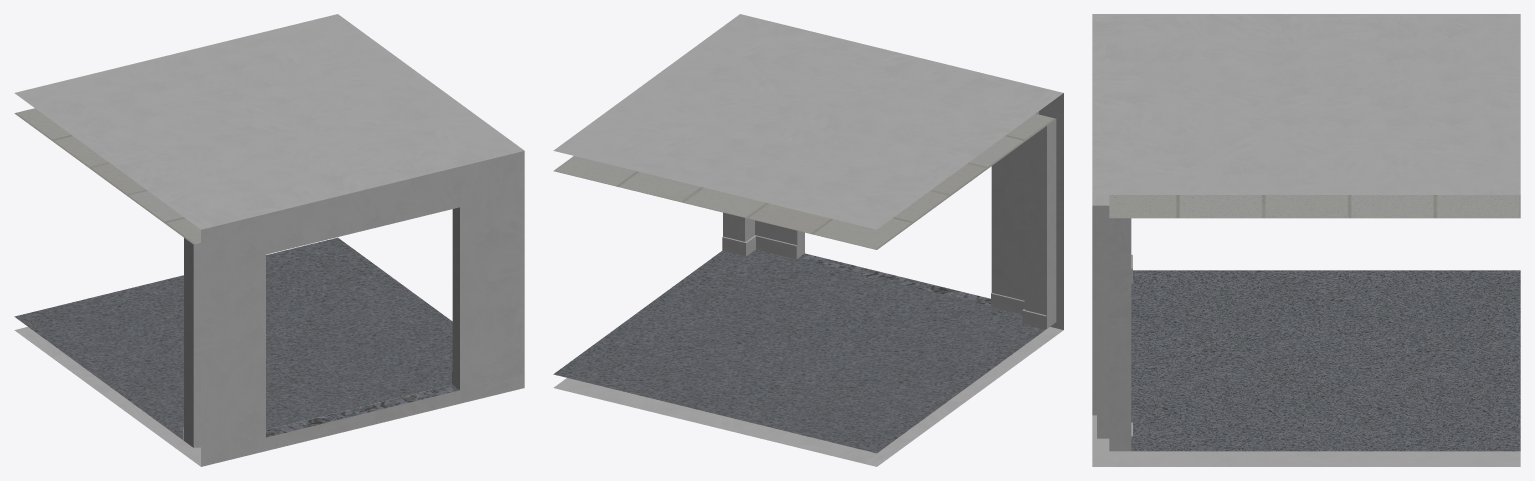
The model's file is SM_HallwayMesh_01_Mid_Entrance.fbx.
3 renders of one model, left to right at view 1: azimuth 30°, elevation 25°; view 2: azimuth 150°, elevation 25°; view 3: azimuth 270°, elevation 25°, orthographic. The views are drawn at different scales.
Parts seen in each view (by area): view 1: SM_HallwayMesh_01_Mid_Entrance_LOD0; view 2: SM_HallwayMesh_01_Mid_Entrance_LOD0; view 3: SM_HallwayMesh_01_Mid_Entrance_LOD0.
Part boxes in pixels (x1,y1,x2,y2): SM_HallwayMesh_01_Mid_Entrance_LOD0: (14, 14, 524, 466); SM_HallwayMesh_01_Mid_Entrance_LOD0: (553, 14, 1063, 466); SM_HallwayMesh_01_Mid_Entrance_LOD0: (1092, 14, 1520, 466).
Bounding box in the file's own units: 500 × 500 × 350.
Materials: 5 (5 with a texture image).
